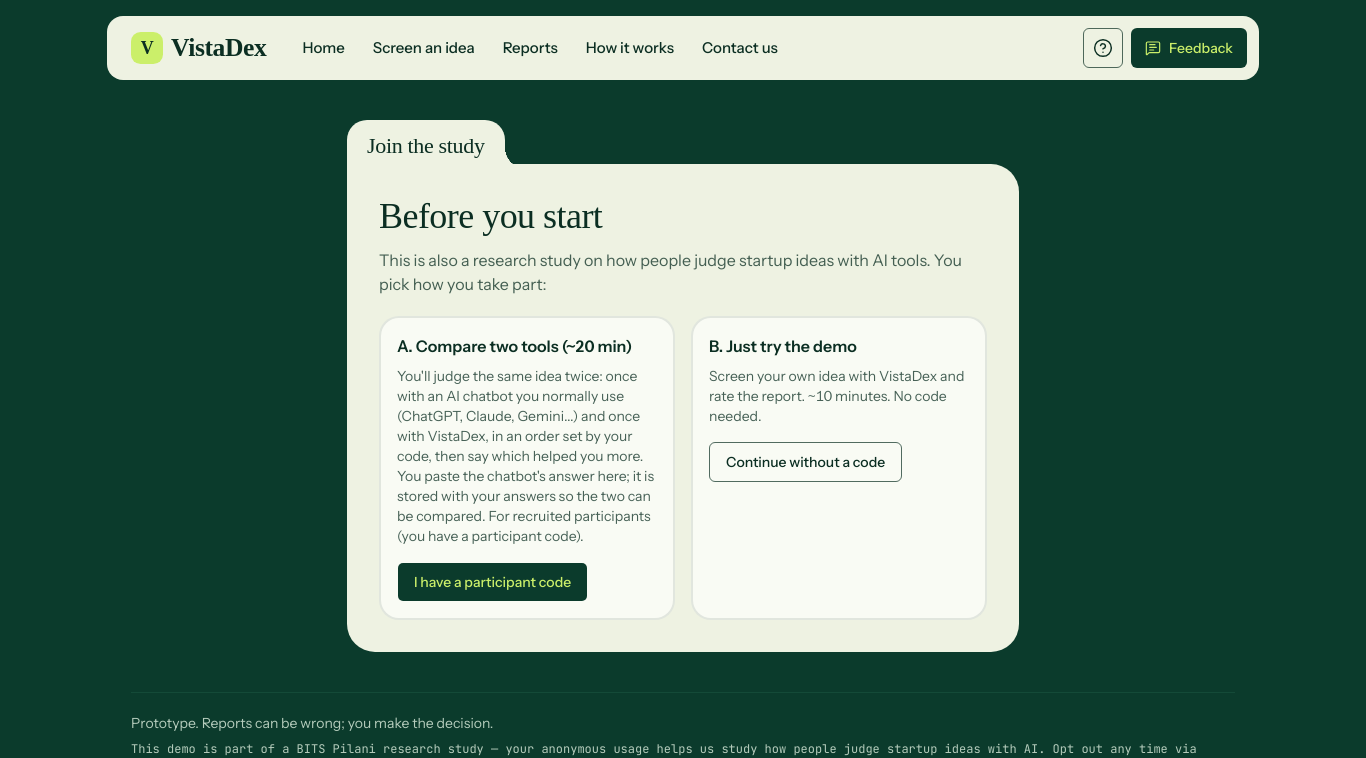
study idea labels › the study page shows Idea A to D, and each button still sends its stored key
The width and height of the screenshot is (1366, 758).
Click the button "I have a participant code".
click(493, 582)  # box [397,562,588,602]
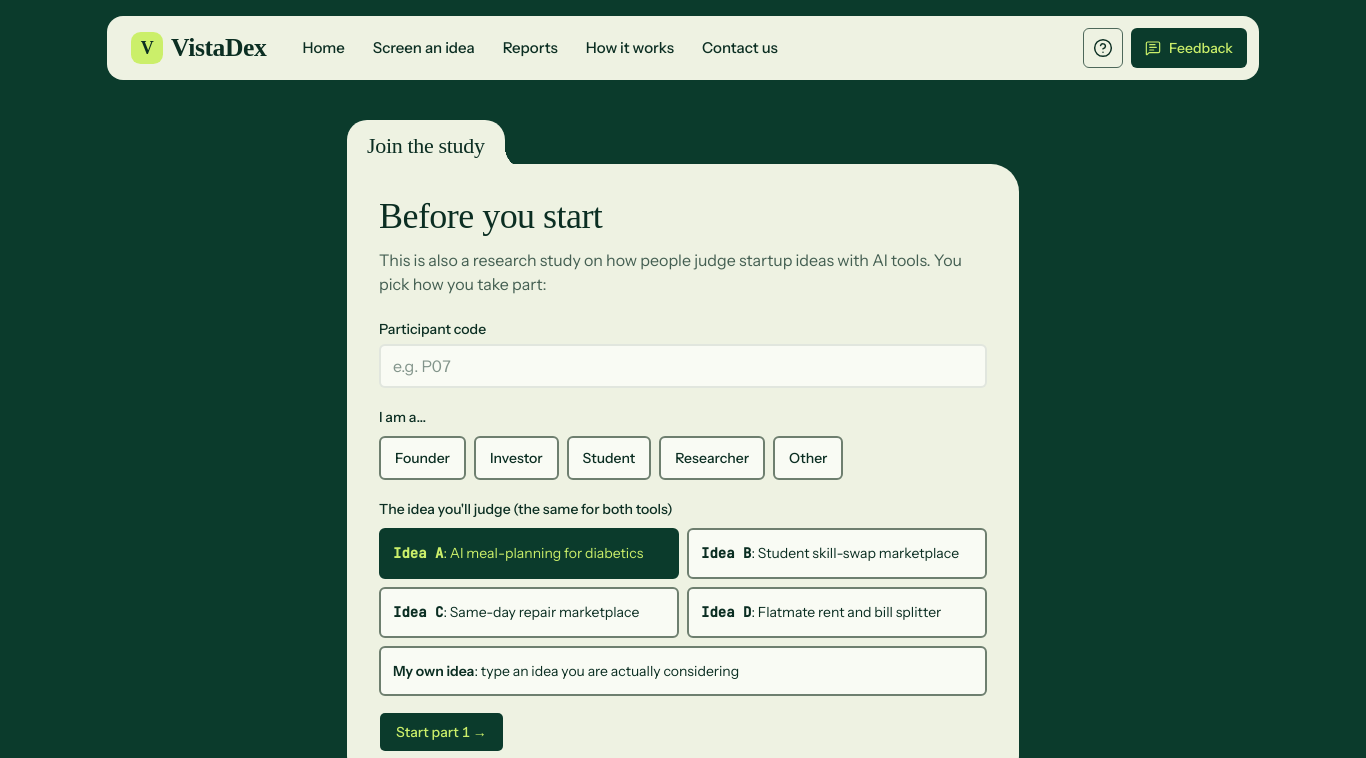
Expected: the button "Idea D: Flatmate rent and bill splitter" is shown, [687,587,987,638]
